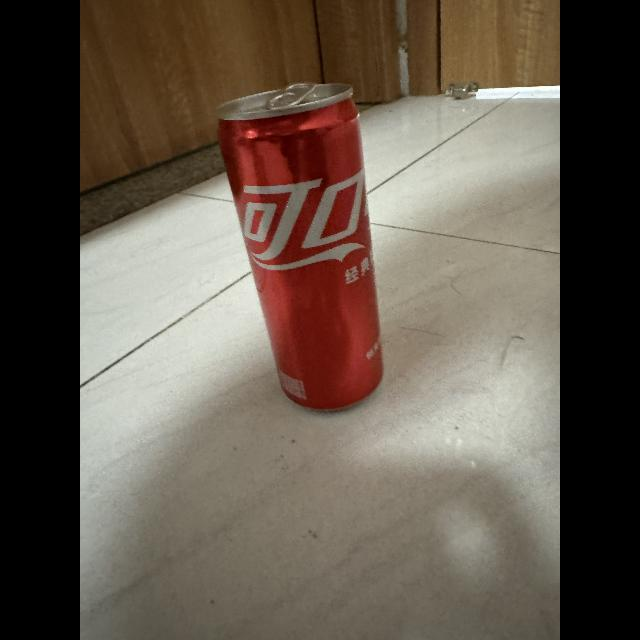Cola: (196, 66, 397, 422)
